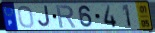1: (122, 3, 133, 29)
4: (103, 4, 118, 29)
6: (78, 4, 94, 29)
J: (37, 5, 52, 29)
O: (17, 5, 36, 29)
R: (55, 4, 77, 29)
